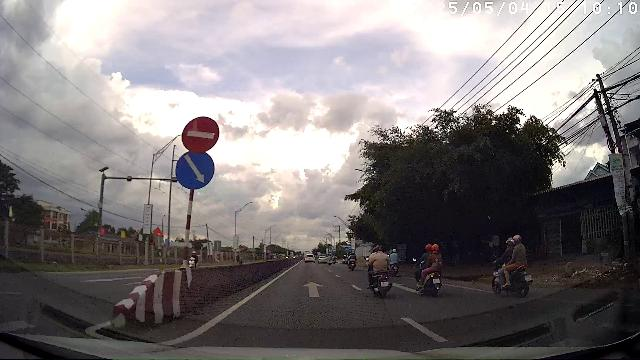102-cam-di-nguoc-chieu: (181, 116, 220, 152)
302a-huong-phai-di-vong-chuong-ngai-vat-1: (175, 151, 216, 190)
